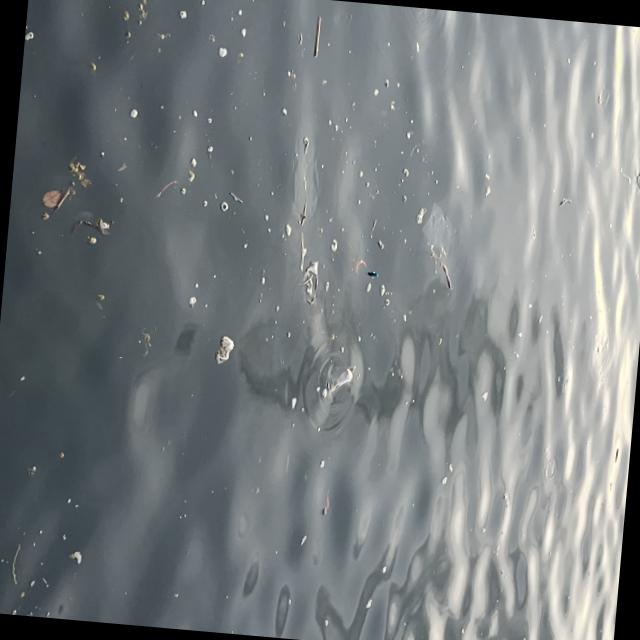plastic bottle: (418, 202, 454, 254), (317, 362, 356, 397), (298, 260, 320, 304), (214, 336, 234, 366)
unknow: (67, 214, 110, 237), (353, 258, 366, 274)
